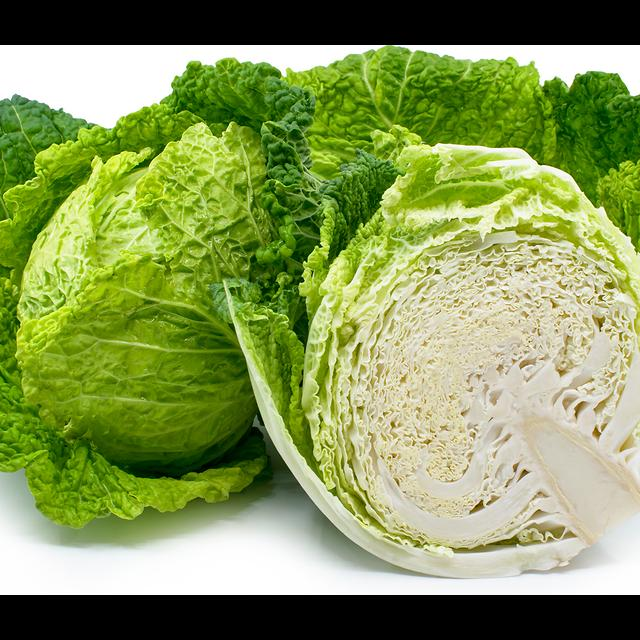cabbage: (227, 138, 640, 583)
